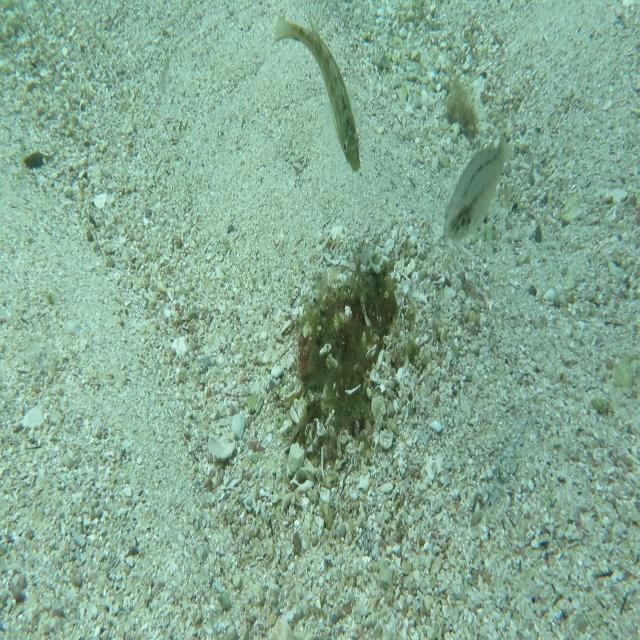CHASE_FLEE: (272, 9, 363, 175)
female: (441, 132, 514, 248)
nest: (274, 241, 419, 478)
